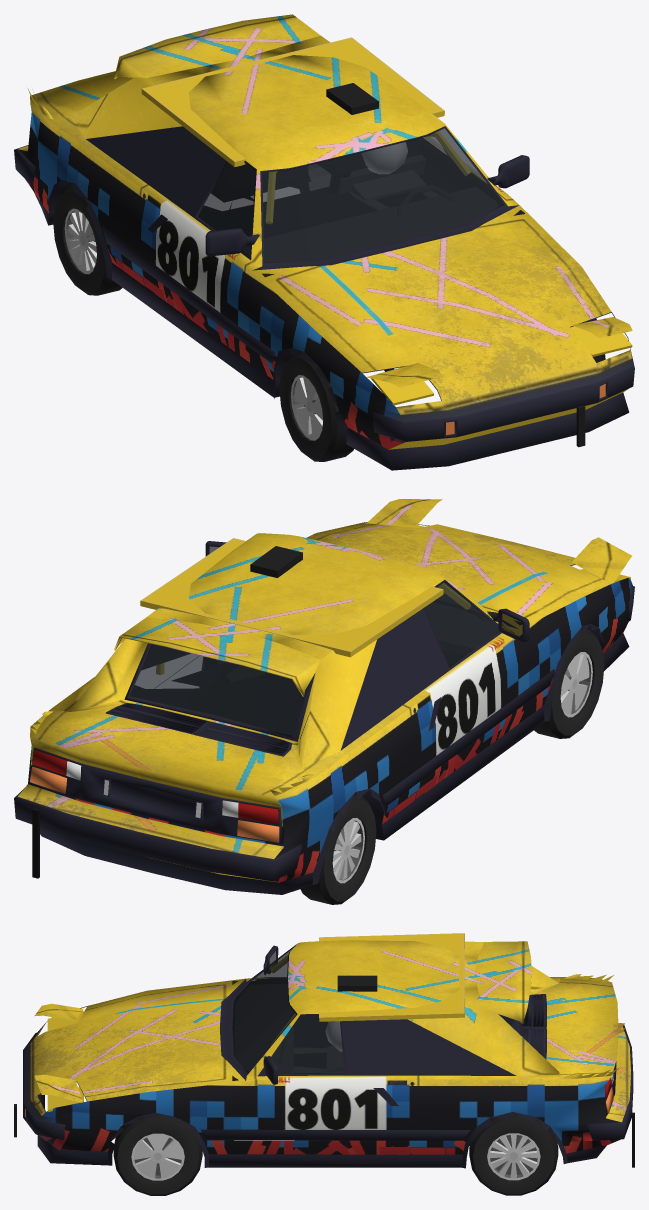
The picture shows the model from 3 angles, top to bottom: view 1: azimuth 30°, elevation 25°; view 2: azimuth 150°, elevation 25°; view 3: azimuth 270°, elevation 25°; orthographic projection. The views are drawn at different scales.
Visible parts, largest first — view 1: body, wheel_fr, wheel_rr; view 2: body, wheel_rr, wheel_fr; view 3: body, wheel_fl, wheel_rl.
Part boxes in pixels (left/top/right/bottom): body: left=14, top=14, right=634, bottom=470; wheel_fr: left=279, top=352, right=353, bottom=461; wheel_rr: left=53, top=184, right=122, bottom=295; body: left=14, top=499, right=634, bottom=894; wheel_rr: left=300, top=794, right=376, bottom=904; wheel_fr: left=534, top=627, right=604, bottom=738; body: left=14, top=933, right=634, bottom=1168; wheel_fl: left=113, top=1113, right=202, bottom=1195; wheel_rl: left=469, top=1112, right=558, bottom=1195.
Bounding box in the file's own units: 1.91 × 1.28 × 4.05.
Materials: 2 (1 with a texture image).
